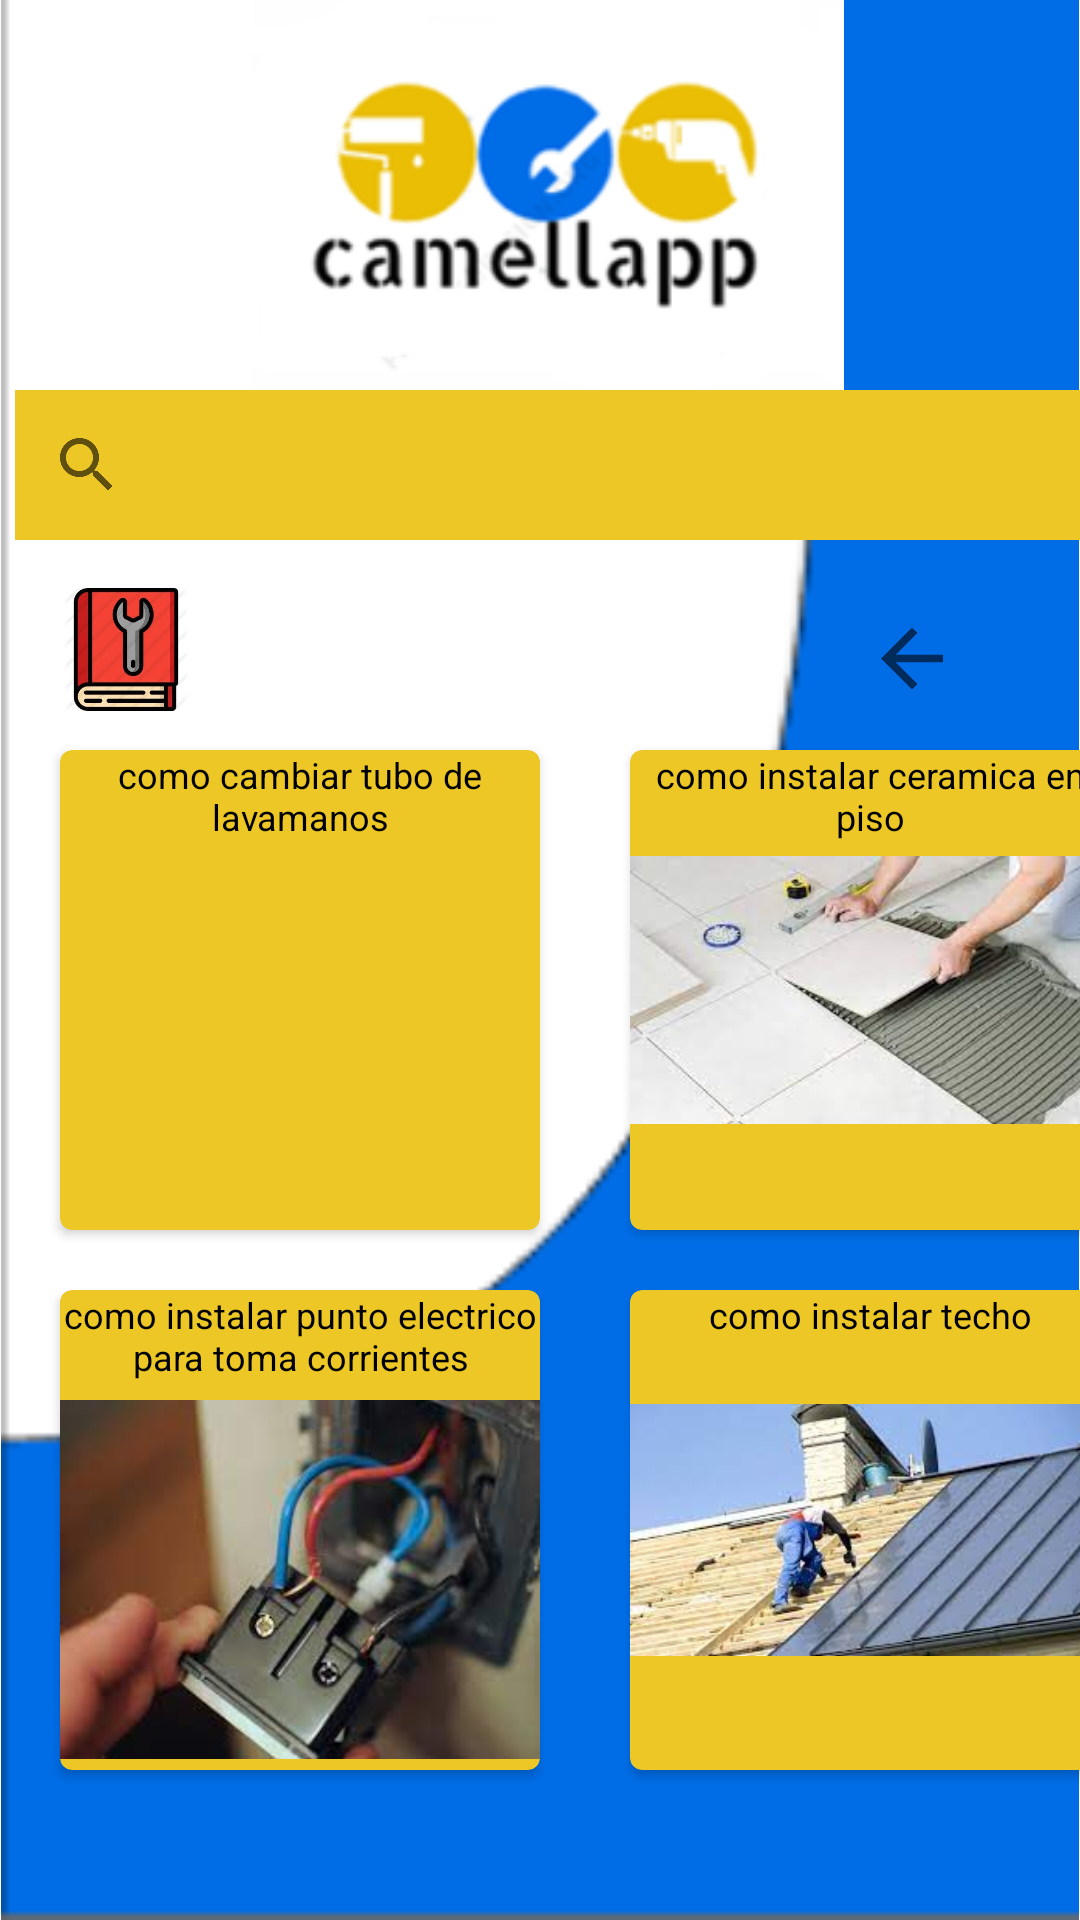

Icons on this 1080px×1920px Android screen, each with its box as {"left": x1, "top": y1, "right": x2, "bottom": y2}:
construayuda: {"left": 73, "top": 588, "right": 179, "bottom": 711}
